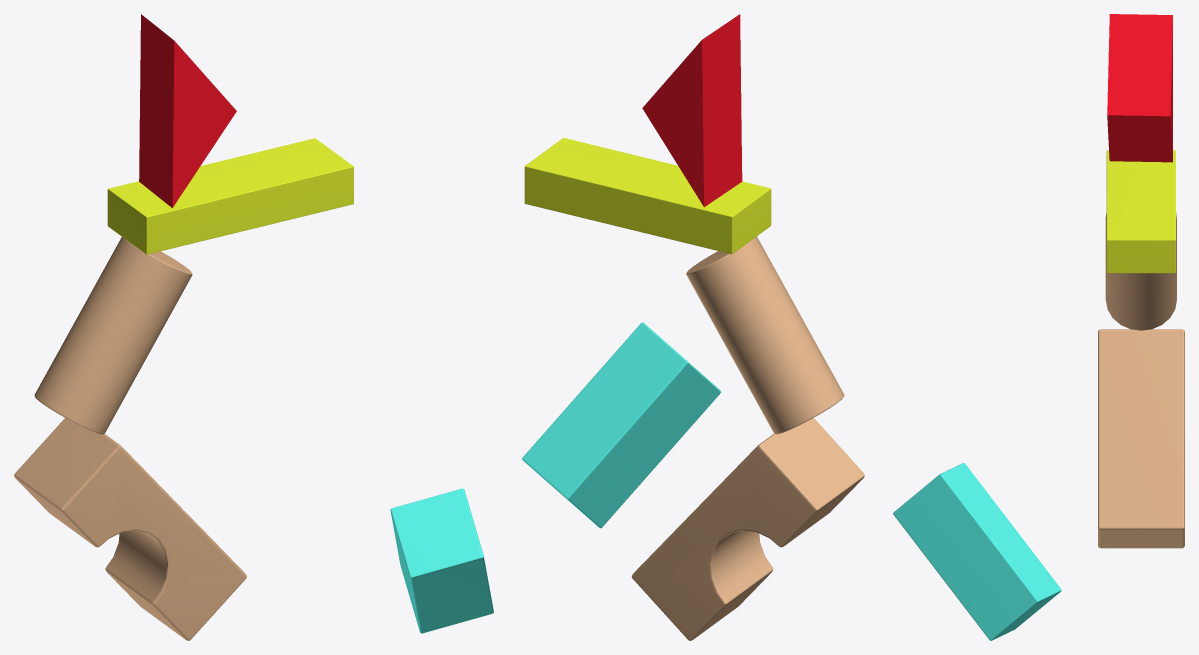
The model's file is blook1.fbx.
3 views of the same model, side by side, from view 1: azimuth 30°, elevation 25°; view 2: azimuth 150°, elevation 25°; view 3: azimuth 270°, elevation 25° (orthographic). The views are drawn at different scales.
Visible parts, largest first — view 1: polySurface4; view 2: polySurface4; view 3: polySurface4.
Part boxes in pixels (left/top/right/bottom): polySurface4: left=14, top=14, right=493, bottom=640; polySurface4: left=522, top=14, right=864, bottom=640; polySurface4: left=893, top=14, right=1184, bottom=640.
Size of the model in its own units: 6.84 by 10.38 by 5.16.
1 material, 1 textured.
